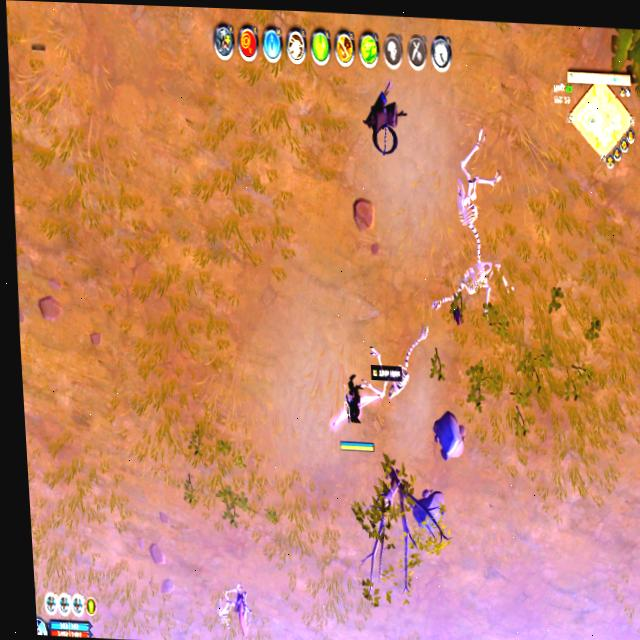ore: (230, 585, 254, 640)
red: (331, 374, 375, 457)
